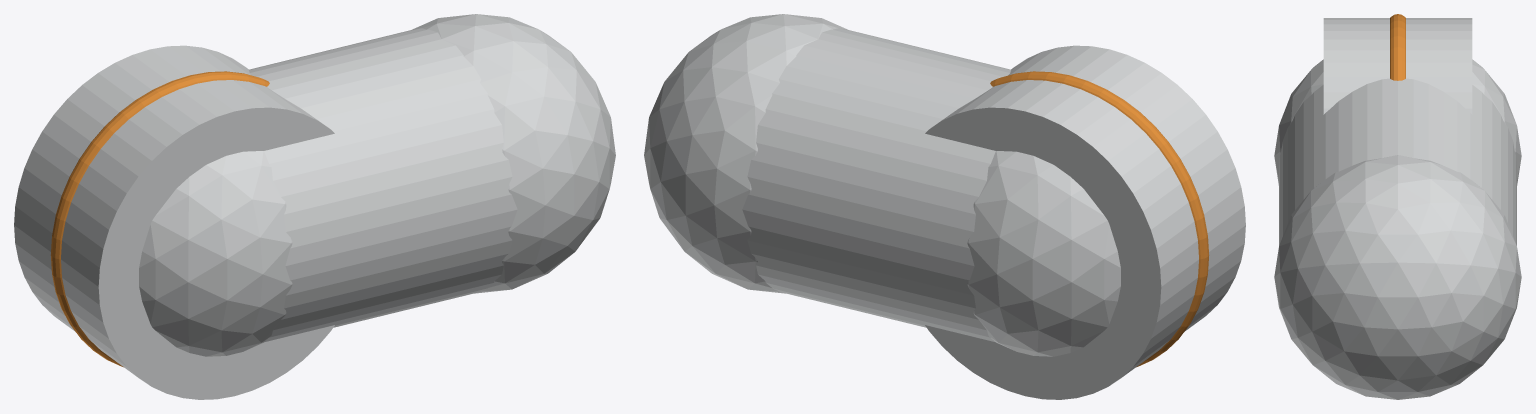
The picture shows the model from 3 angles, left to right: view 1: azimuth 30°, elevation 25°; view 2: azimuth 150°, elevation 25°; view 3: azimuth 270°, elevation 25°; orthographic projection. The views are drawn at different scales.
Parts seen in each view (by area): view 1: link4_body.stl, link4_ring.stl; view 2: link4_body.stl, link4_ring.stl; view 3: link4_body.stl, link4_ring.stl.
Boxes of the visible parts, left/top/right/bottom form: link4_body.stl: left=14, top=14, right=615, bottom=399; link4_ring.stl: left=50, top=71, right=269, bottom=367; link4_body.stl: left=644, top=14, right=1245, bottom=399; link4_ring.stl: left=990, top=71, right=1209, bottom=367; link4_body.stl: left=1274, top=18, right=1521, bottom=399; link4_ring.stl: left=1390, top=14, right=1405, bottom=80.
Size of the model in its own units: 0.3065 by 0.1577 by 0.1373.
